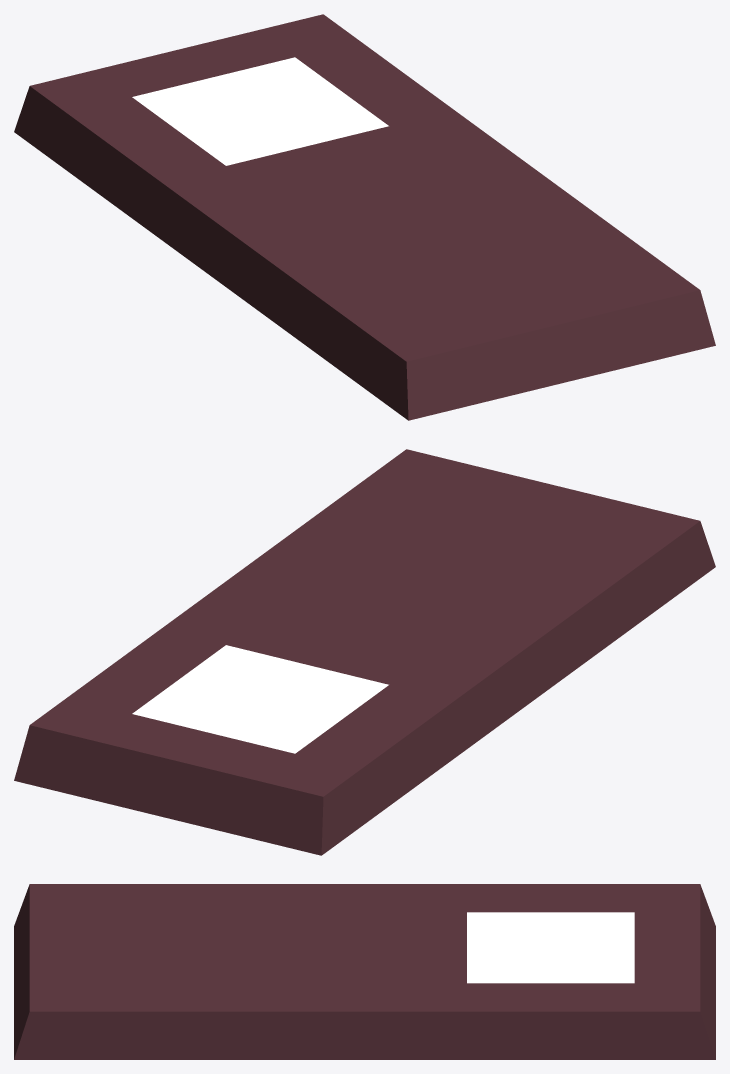
File: apocalypse-train-door-apocalypse.glb
The picture shows the model from 3 angles, top to bottom: view 1: azimuth 30°, elevation 25°; view 2: azimuth 150°, elevation 25°; view 3: azimuth 270°, elevation 25°; orthographic projection. The views are drawn at different scales.
Visible parts, largest first — view 1: train-door-apocalypse; view 2: train-door-apocalypse; view 3: train-door-apocalypse.
Boxes of the visible parts, bbox=[...] form: train-door-apocalypse: bbox=[14, 14, 715, 420]; train-door-apocalypse: bbox=[14, 449, 715, 855]; train-door-apocalypse: bbox=[14, 884, 715, 1059].
Bounding box in the file's own units: 0.9004 × 0.1424 × 2.
